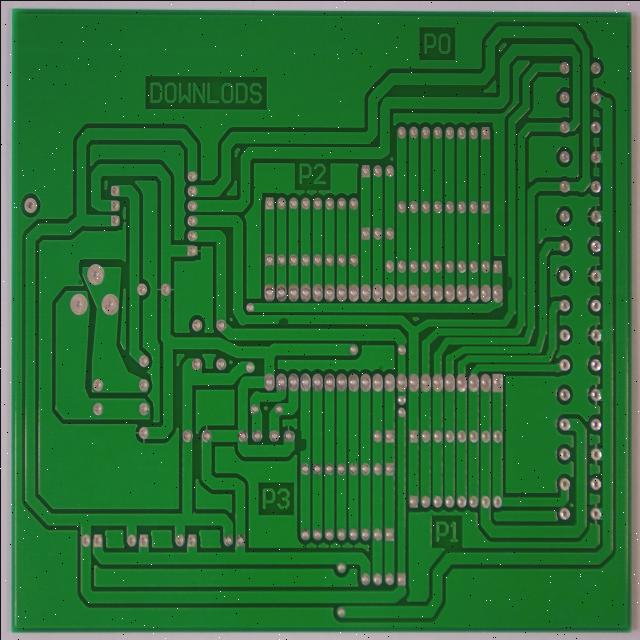mouse_bite: (290, 430, 307, 450), (268, 306, 287, 322), (501, 265, 514, 286)
